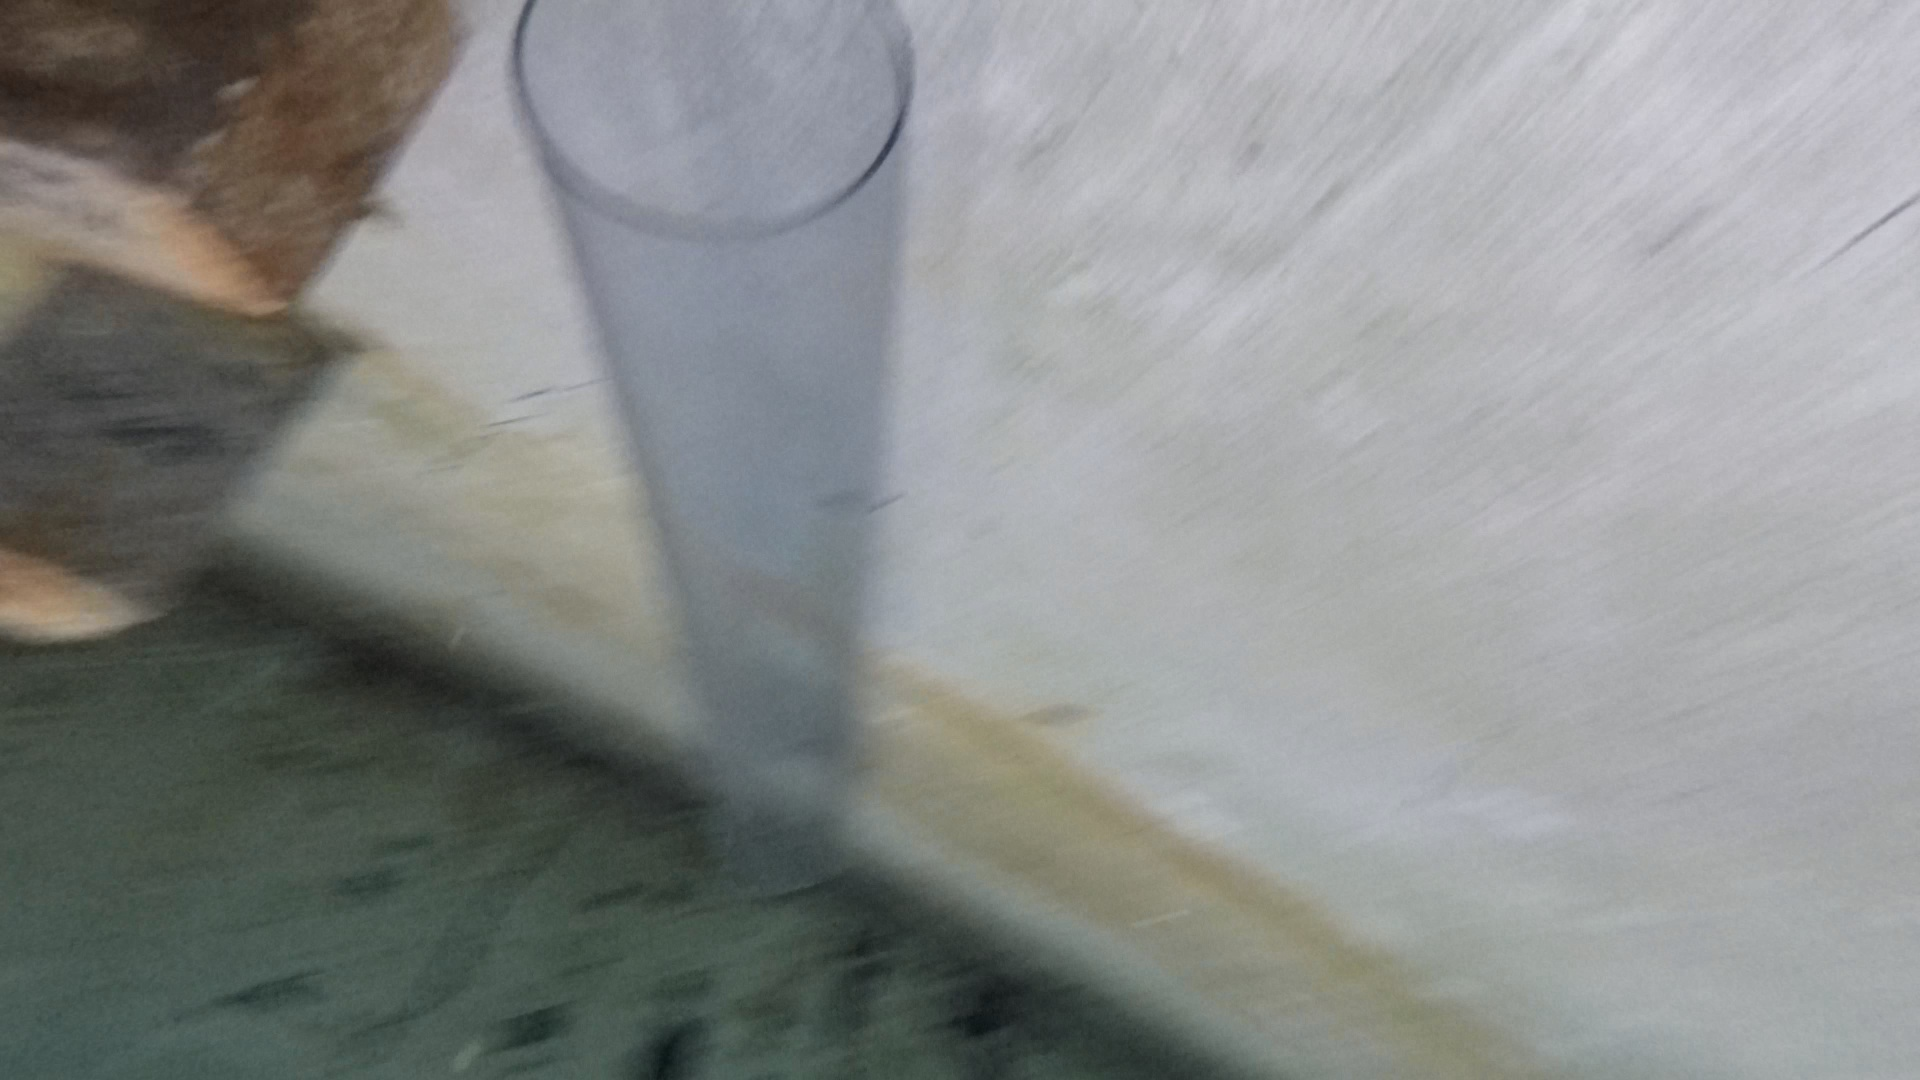led_block: (4, 1, 469, 318), (1, 266, 349, 651)
pipe: (510, 1, 916, 898)
